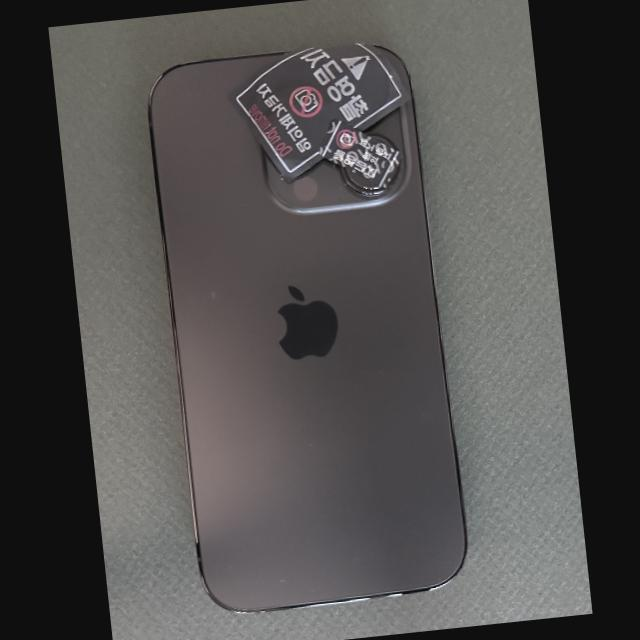lens: (342, 164, 399, 194)
phone: (149, 45, 465, 611)
sticker: (228, 41, 412, 182), (317, 118, 403, 189)
